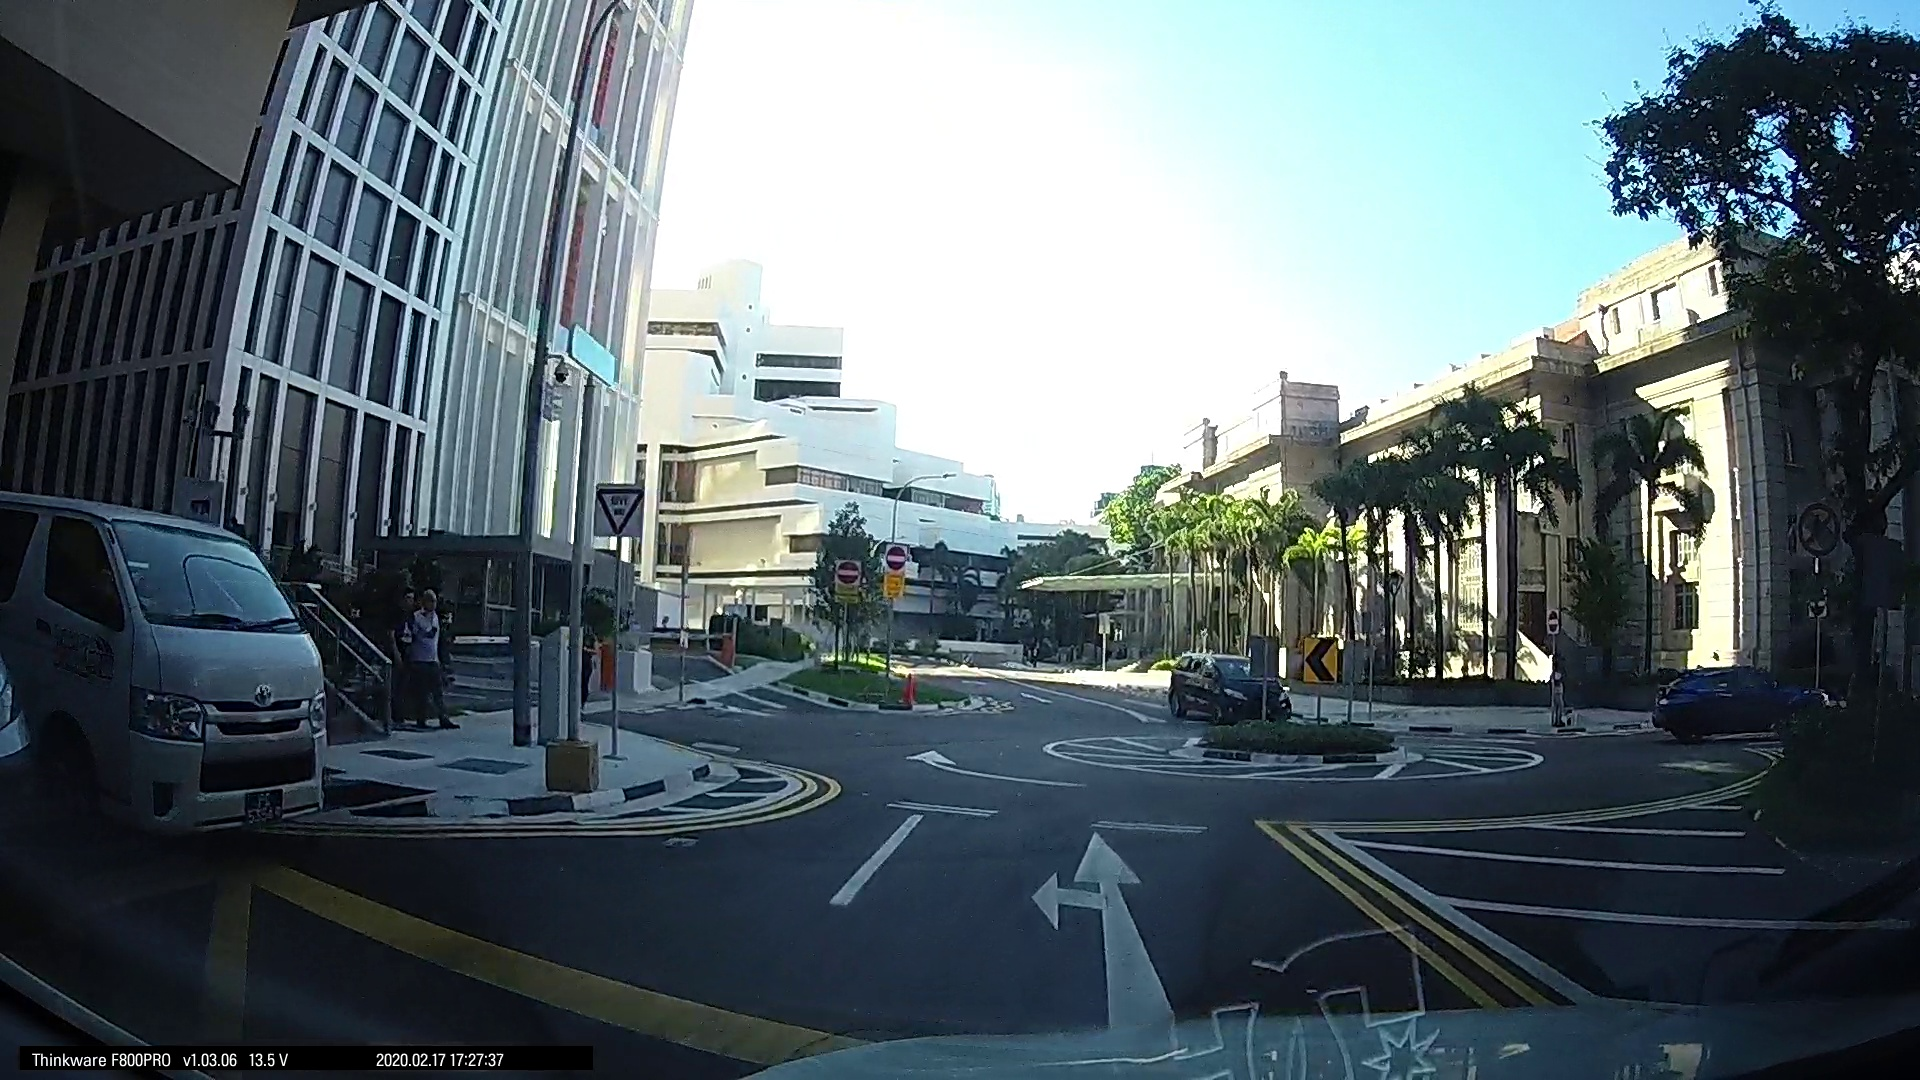Light Vehicle: (4, 489, 338, 861), (1651, 661, 1803, 740), (1159, 647, 1284, 727)
